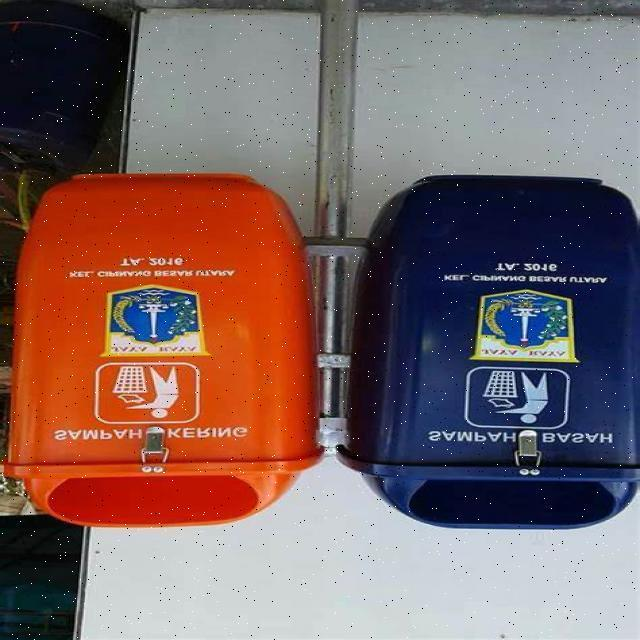garbage container: (1, 160, 345, 556), (338, 172, 640, 550)
